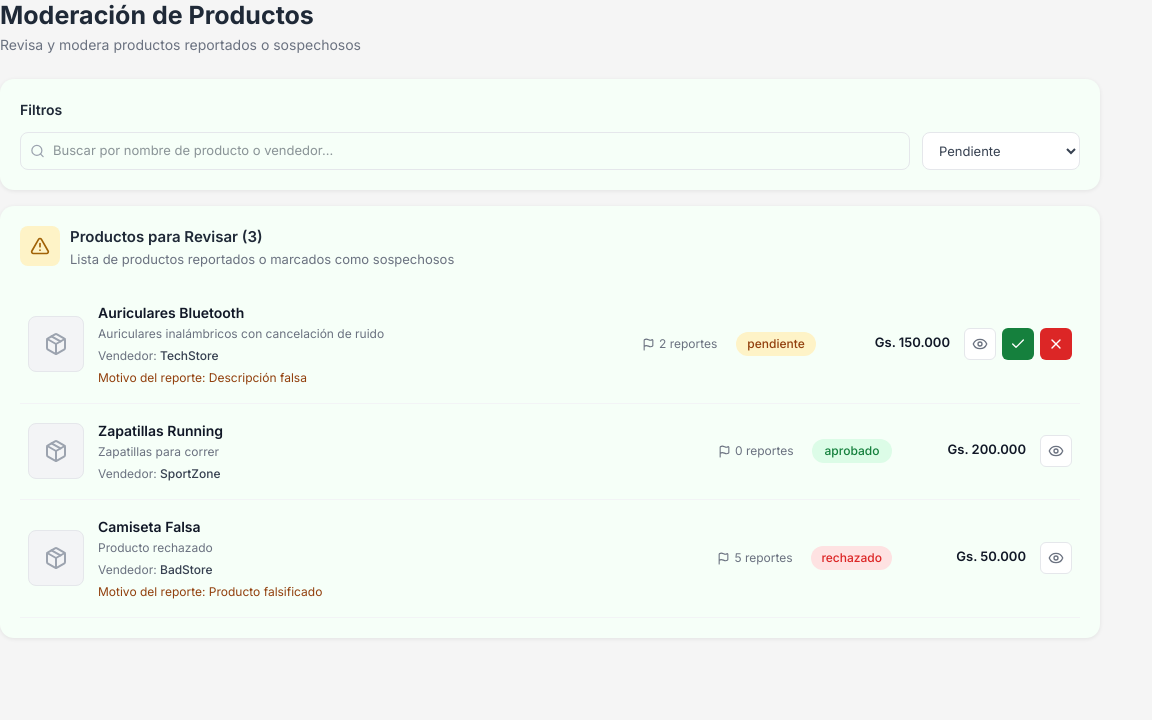
it: AdminProductsPage › muestra "Sin reportes activos." en el modal cuando no hay reportes
Check: the text "Zapatillas Running" is shown, box [98, 422, 223, 438]
Click the button titled "Ver detalle" next to "200.000".
click(1056, 451)  # box [1040, 435, 1072, 467]
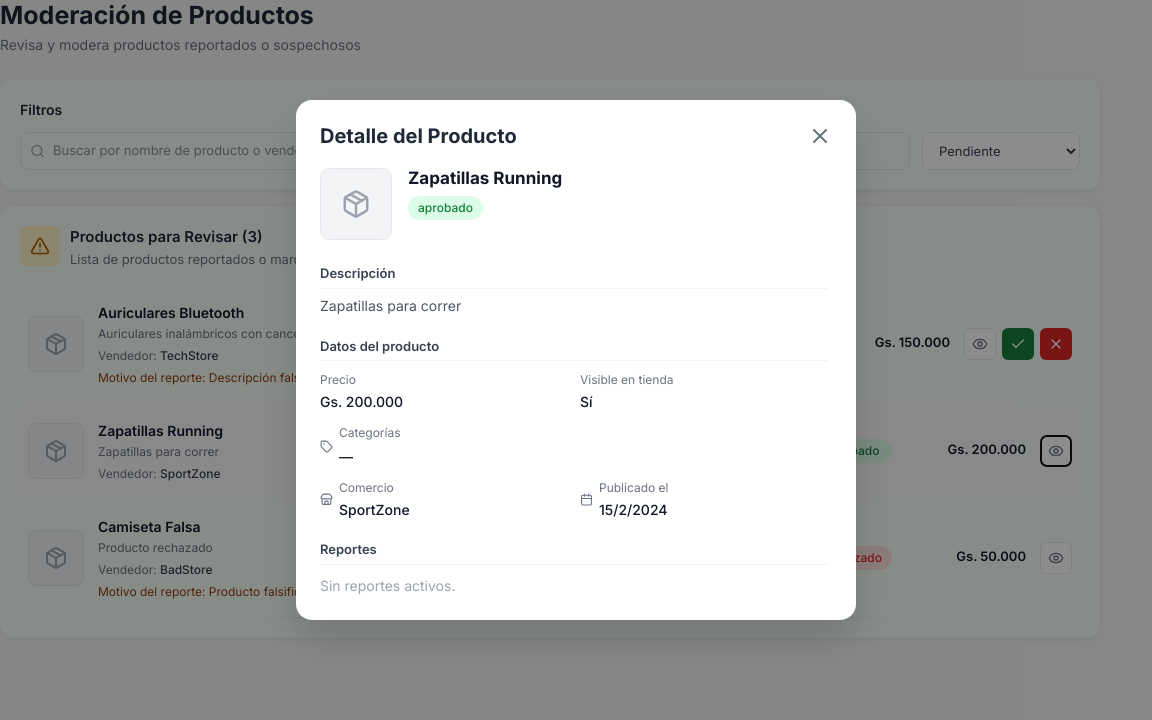
Check: the text "Sin reportes activos." is shown, box [320, 577, 455, 594]
